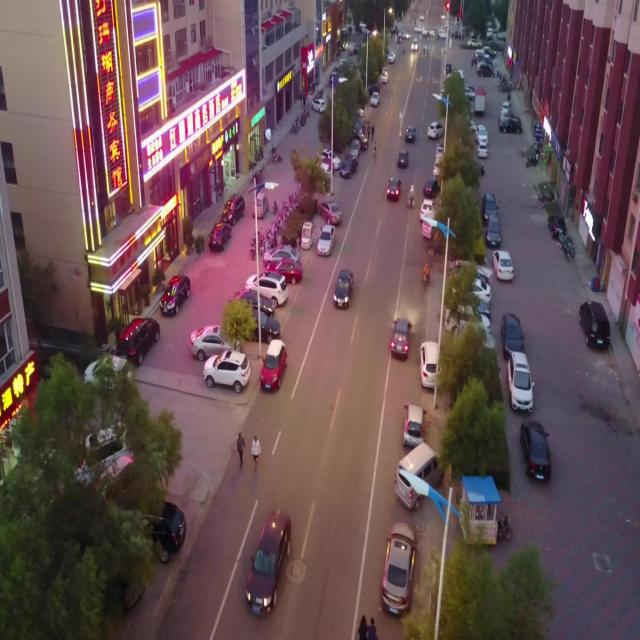car: (245, 508, 291, 616), (380, 522, 418, 618), (142, 499, 186, 563), (116, 316, 160, 366), (520, 420, 551, 481), (578, 299, 610, 349), (160, 274, 190, 316), (389, 317, 413, 360), (333, 268, 353, 308)
person: (251, 434, 261, 468), (237, 432, 245, 467), (366, 616, 378, 639), (357, 614, 368, 639)
tree: (0, 349, 183, 638), (437, 374, 510, 499), (222, 296, 258, 351)
